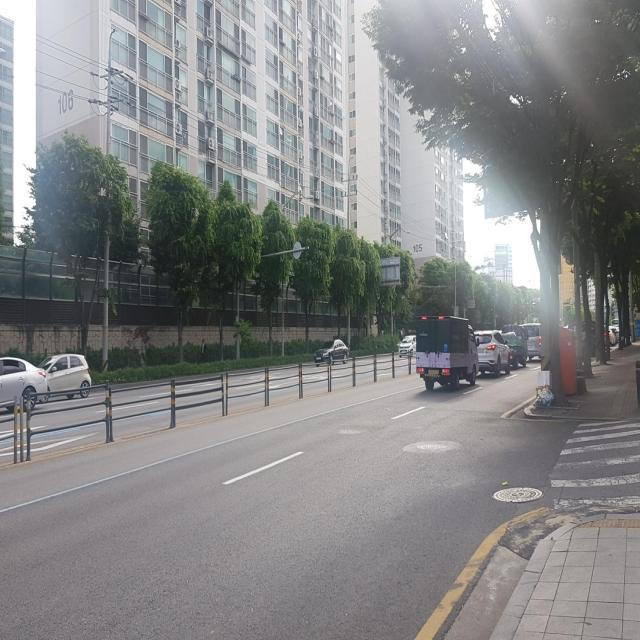횡단보도: (550, 419, 640, 511)
